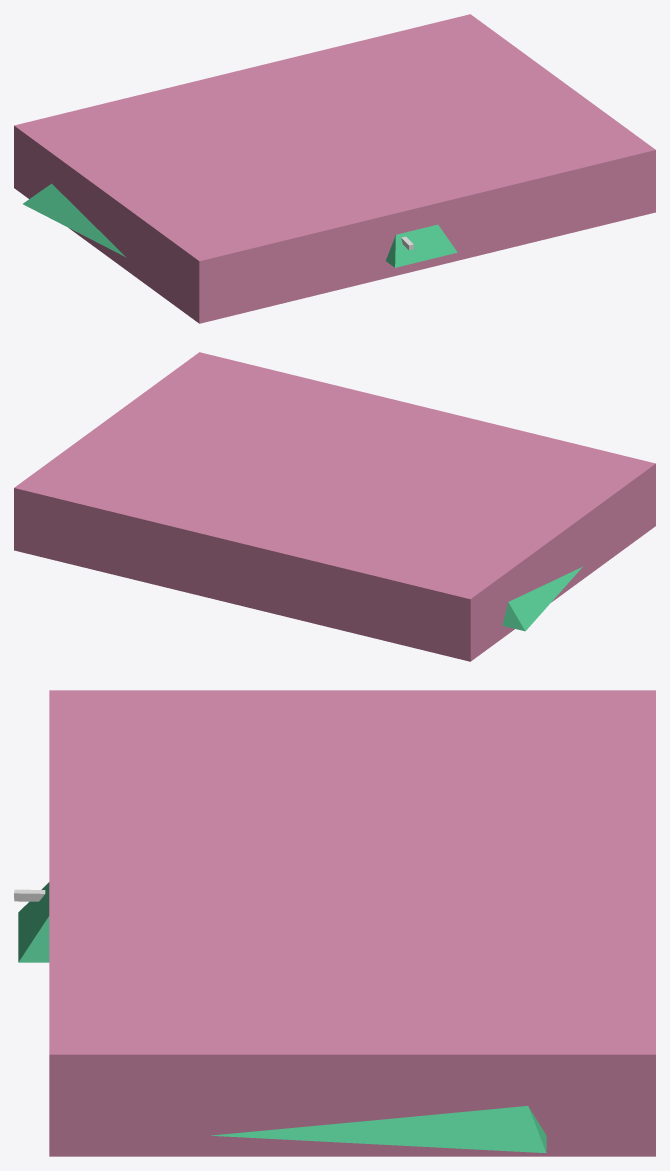
The model's file is ind_rubbish_01_e.dae.
3 renders of one model, top to bottom at view 1: azimuth 30°, elevation 25°; view 2: azimuth 150°, elevation 25°; view 3: azimuth 270°, elevation 25°, orthographic. The views are drawn at different scales.
Visible parts, largest first — view 1: Untitled, Colmesh-1; view 2: Untitled, Colmesh-1; view 3: Untitled, Colmesh-1.
Boxes of the visible parts, x1=… form: Untitled: x1=14, y1=14, x2=655, y2=323; Colmesh-1: x1=23, y1=183, x2=457, y2=267; Untitled: x1=14, y1=352, x2=655, y2=661; Colmesh-1: x1=502, y1=566, x2=582, y2=631; Untitled: x1=49, y1=690, x2=655, y2=1156; Colmesh-1: x1=18, y1=882, x2=546, y2=1152.
Size of the model in its own units: 3.06 by 2.07 by 0.3643.
